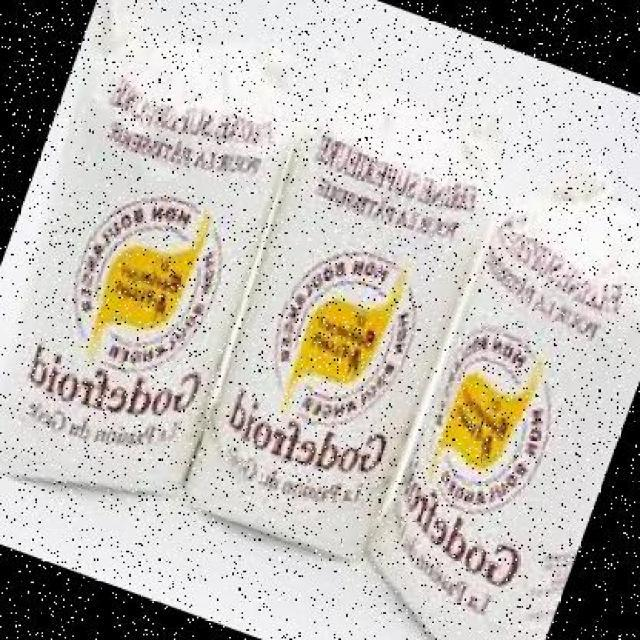gunny_bag: (188, 46, 491, 559), (0, 0, 301, 494), (366, 158, 640, 640)
